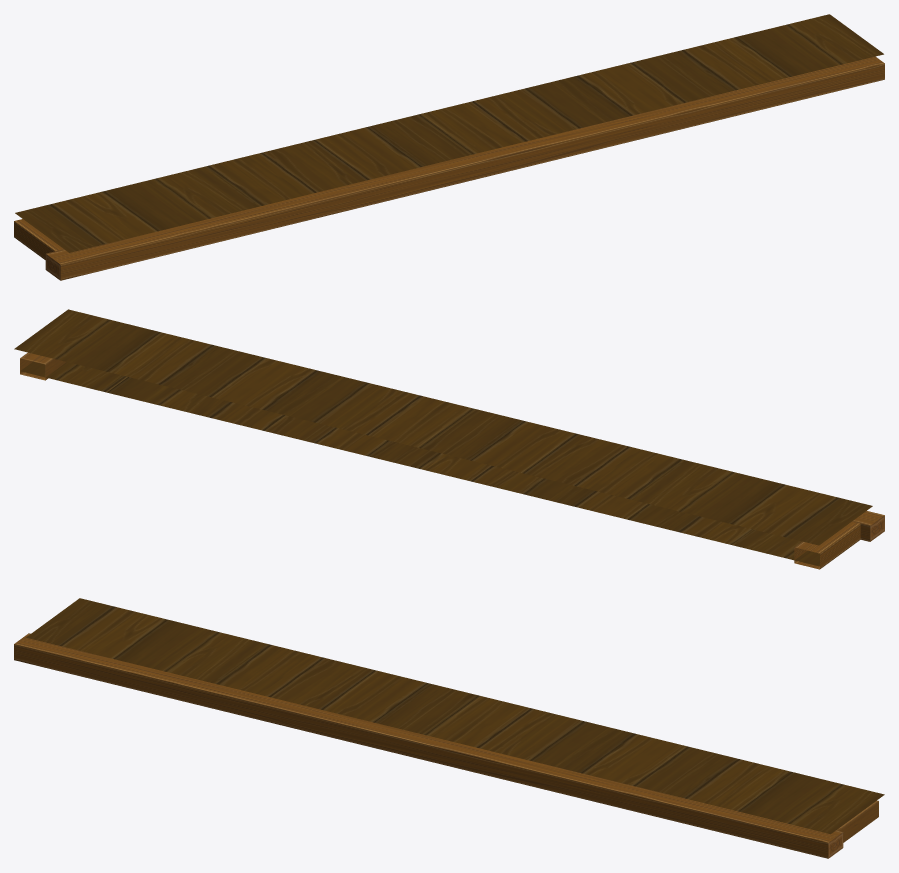
Rendered from SM_House_Floor_Overhang_Top_Extended.fbx.
The picture shows the model from 3 angles, top to bottom: view 1: azimuth 30°, elevation 25°; view 2: azimuth 150°, elevation 25°; view 3: azimuth 330°, elevation 25°; orthographic projection.
Parts seen in each view (by area): view 1: SM_House_Floor_Overhang_Top_Extended; view 2: SM_House_Floor_Overhang_Top_Extended; view 3: SM_House_Floor_Overhang_Top_Extended.
Boxes of the visible parts, bbox=[...] form: SM_House_Floor_Overhang_Top_Extended: bbox=[14, 14, 884, 280]; SM_House_Floor_Overhang_Top_Extended: bbox=[14, 309, 884, 569]; SM_House_Floor_Overhang_Top_Extended: bbox=[14, 598, 884, 858].
Size of the model in its own units: 6.53 by 0.1826 by 0.7715.
